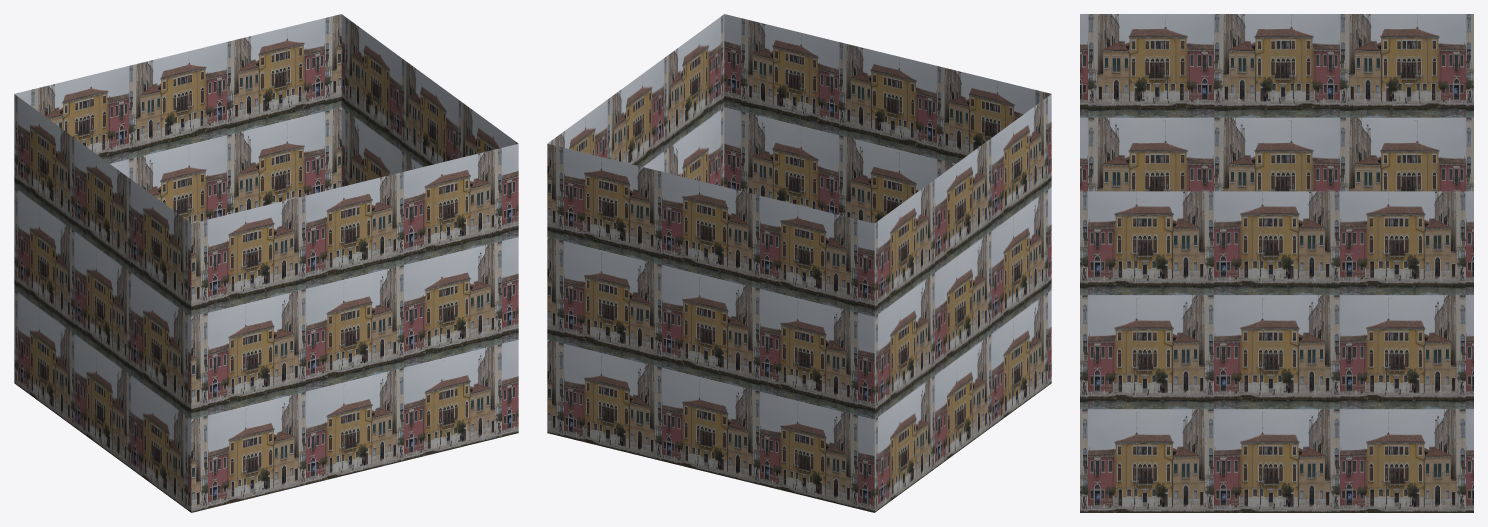
Rendered from SeaBuildings.FBX.
3 renders of one model, left to right at view 1: azimuth 30°, elevation 25°; view 2: azimuth 150°, elevation 25°; view 3: azimuth 270°, elevation 25°, orthographic. The views are drawn at different scales.
Parts seen in each view (by area): view 1: SeaBuildings; view 2: SeaBuildings; view 3: SeaBuildings.
Boxes of the visible parts, x1,y1,x2,y2 form: SeaBuildings: (14,14,518,512); SeaBuildings: (547,14,1051,512); SeaBuildings: (1080,14,1473,512).
Size of the model in its own units: 118 by 99.52 by 110.
Materials: 1 (1 with a texture image).
